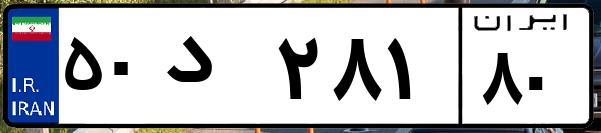0: (525, 38, 570, 115), (110, 28, 158, 98)
1: (385, 28, 445, 110)
2: (270, 28, 330, 110)
5: (57, 26, 110, 100)
8: (330, 28, 385, 110), (475, 38, 525, 113)
د: (158, 20, 270, 120)
